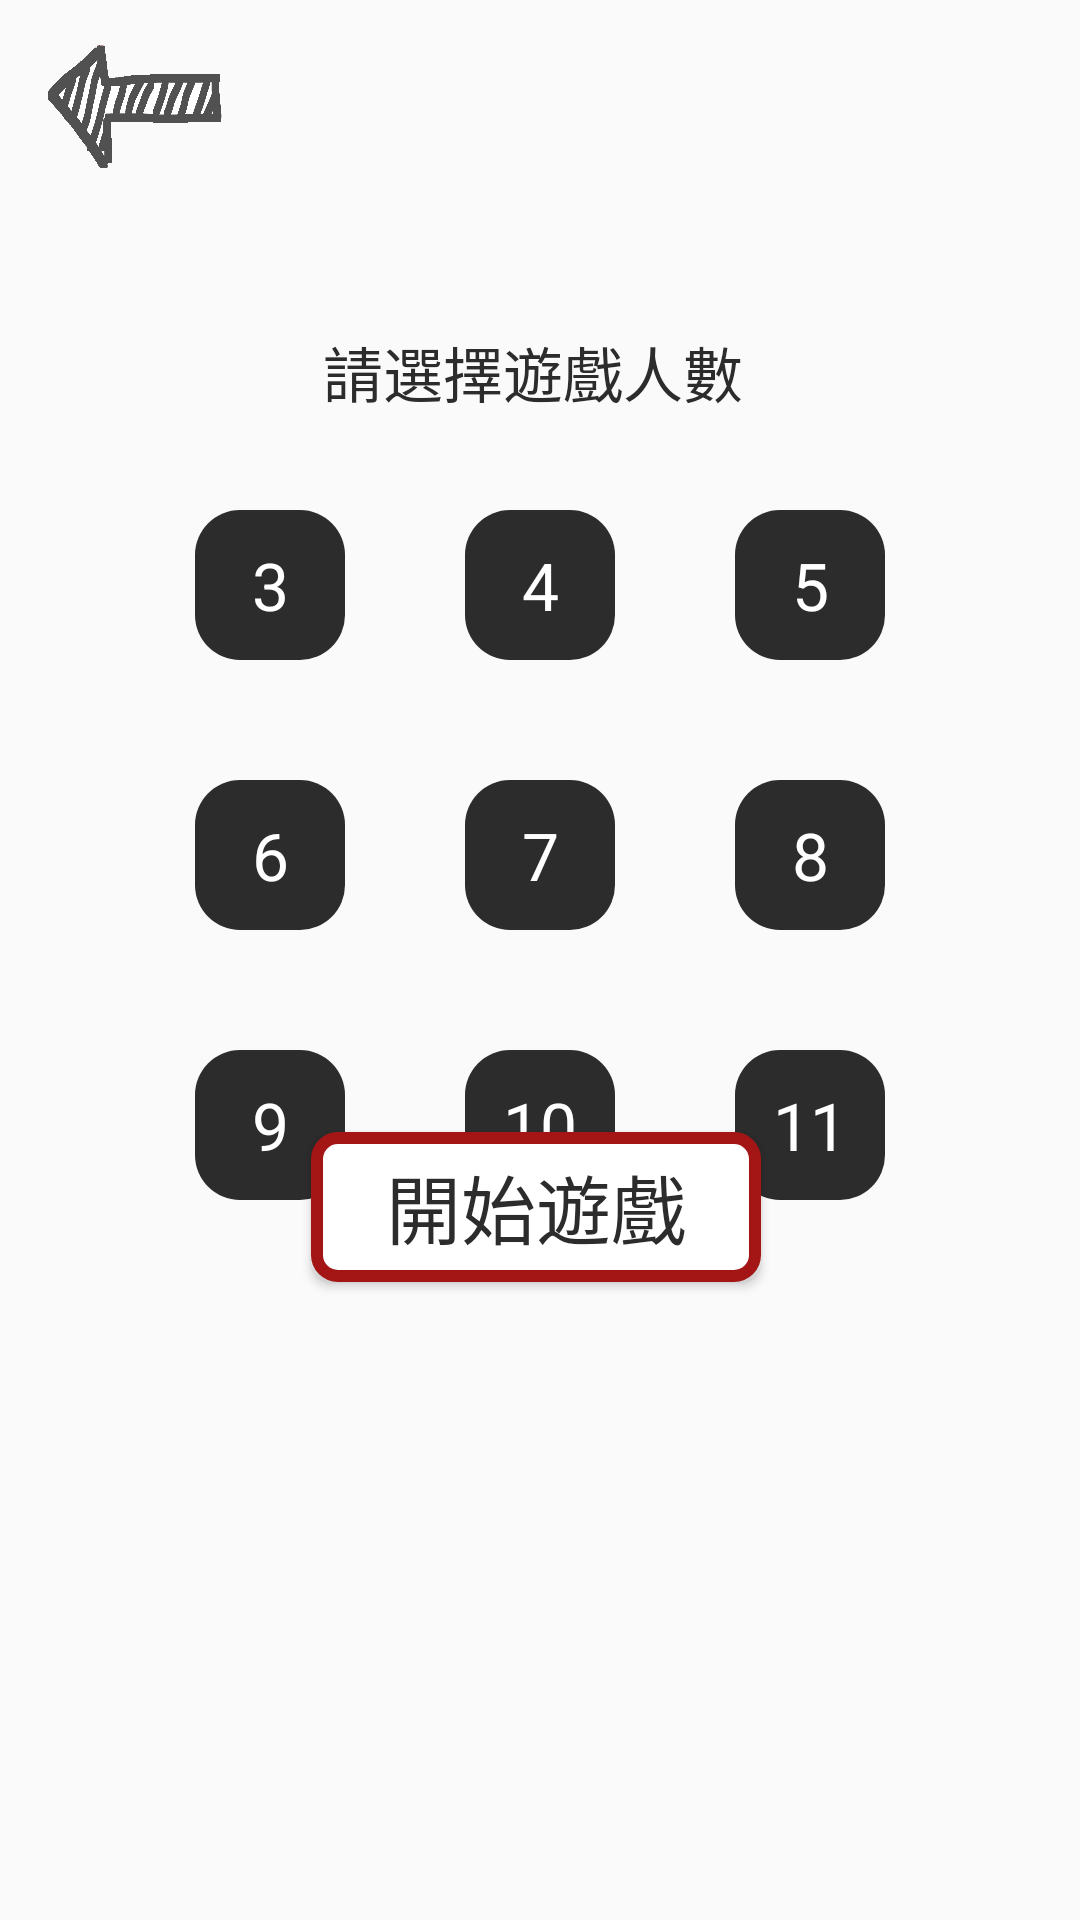

Where to tap for icons on this 1080px×1920px app screen, as [x,y]:
return: [135,106]
